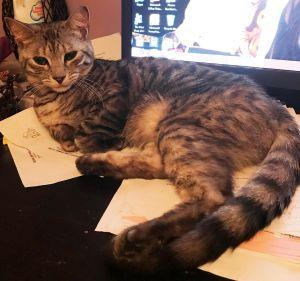bengal: (1, 6, 105, 96)
